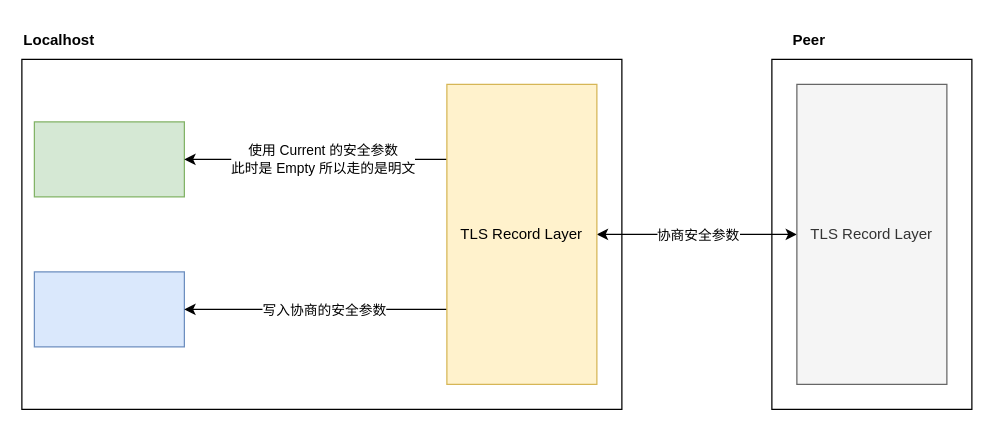
Some shapes in this 994 by 431 pixel diagram are drawn without their labels. The centre of each missing label's shape, as x and y in pixels:
"Current ( Empty )" belongs at pixel 108 159.
"Pending ( Empty )" belongs at pixel 108 309.
